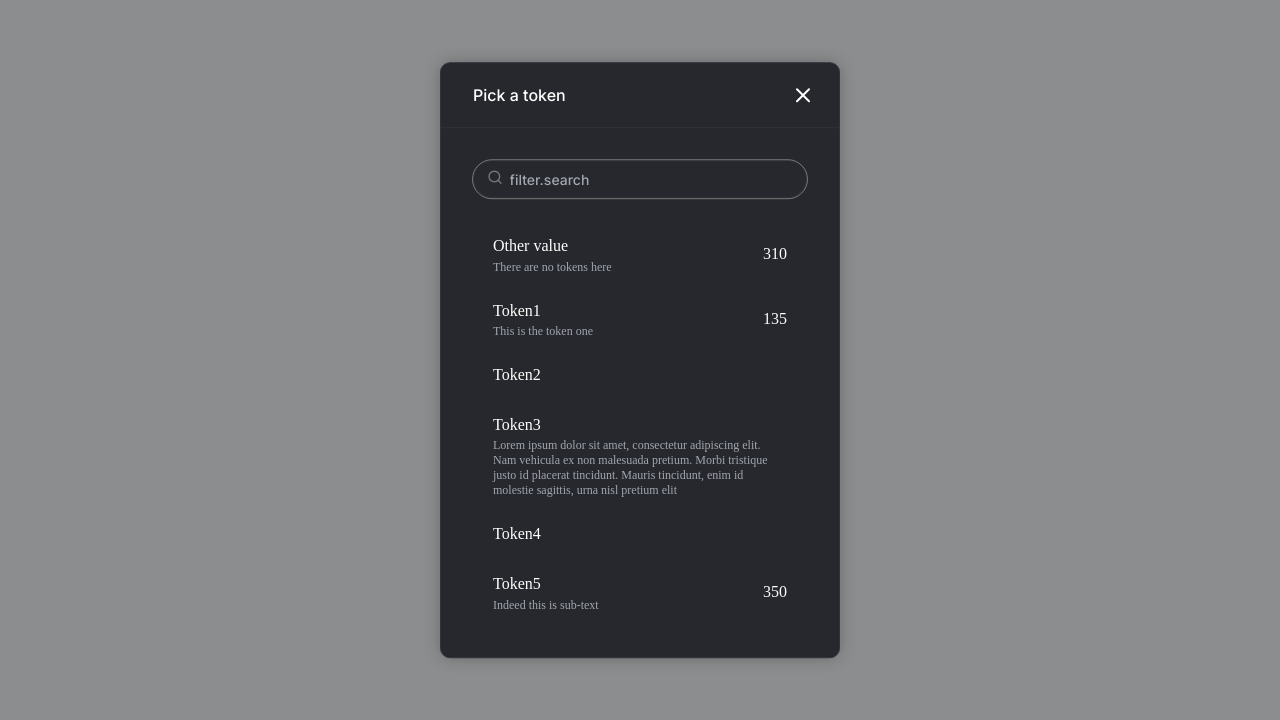
it: Picker › General interactions › should filter options when searching
Step 1. Type "lorem" into the field with placeholder "filter.search" → point(648, 179), box [508,170,788,189]
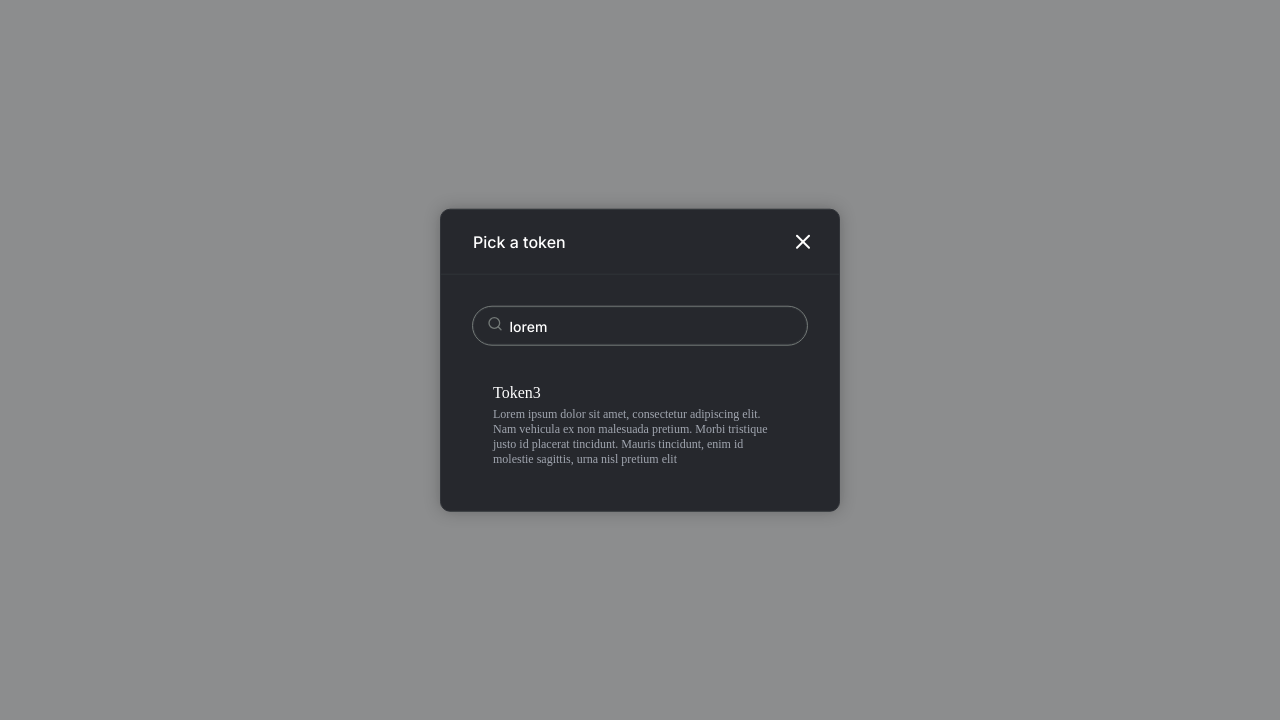
Now the text "Token3" is shown, box [493,384,541,401]
